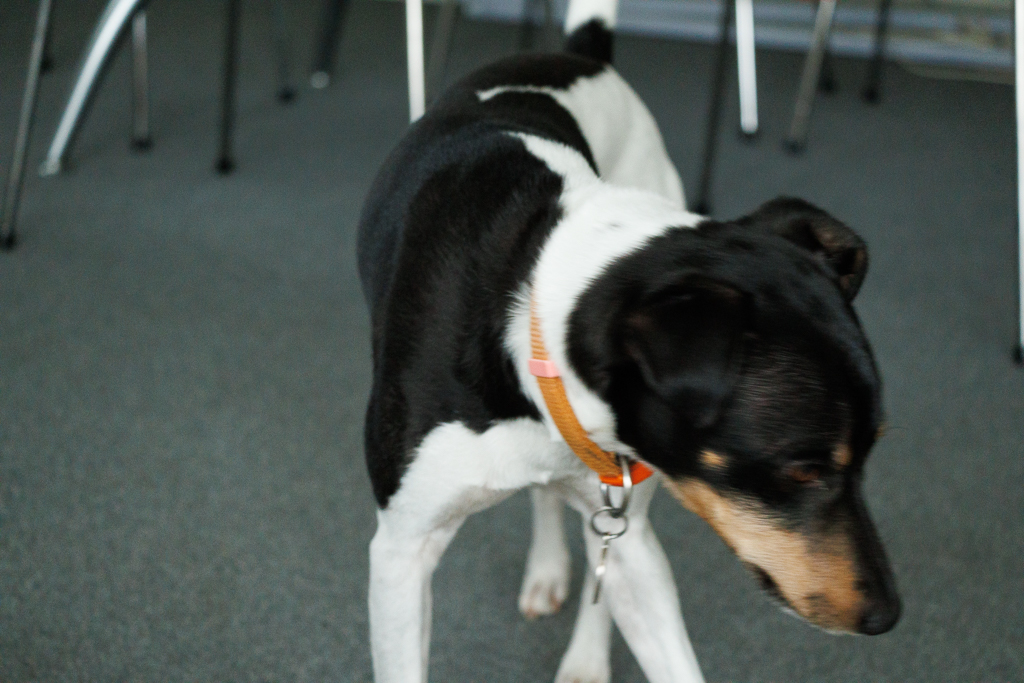Dog: (340, 0, 921, 683)
